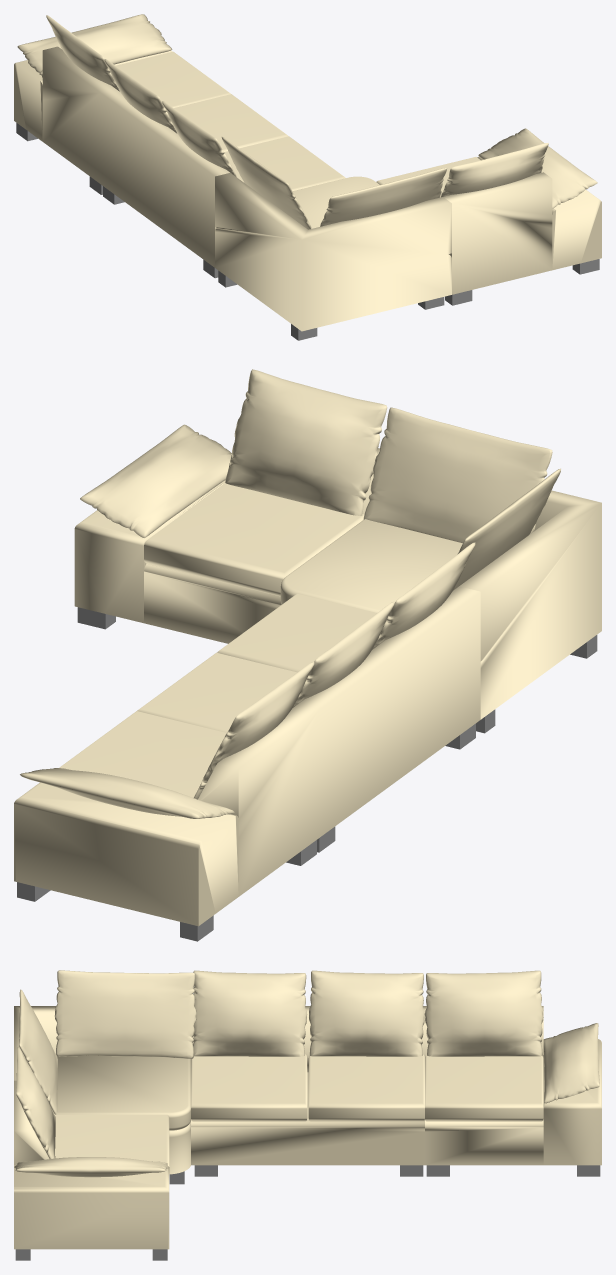
The picture shows the model from 3 angles, top to bottom: view 1: azimuth 30°, elevation 25°; view 2: azimuth 150°, elevation 25°; view 3: azimuth 270°, elevation 25°; orthographic projection. The views are drawn at different scales.
Parts seen in each view (by area): view 1: Mesh23_Group31_Group30_Group28_Group3_Model; view 2: Mesh23_Group31_Group30_Group28_Group3_Model; view 3: Mesh23_Group31_Group30_Group28_Group3_Model.
Boxes of the visible parts, box(x1,y1,x2,y2) form: Mesh23_Group31_Group30_Group28_Group3_Model: box(14, 14, 601, 340); Mesh23_Group31_Group30_Group28_Group3_Model: box(14, 369, 601, 941); Mesh23_Group31_Group30_Group28_Group3_Model: box(14, 970, 601, 1260).
Bounding box in the file's own units: 0.6048 × 0.2732 × 1.
